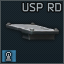HK USP Red Dot sight mount: (0, 0, 64, 64)
